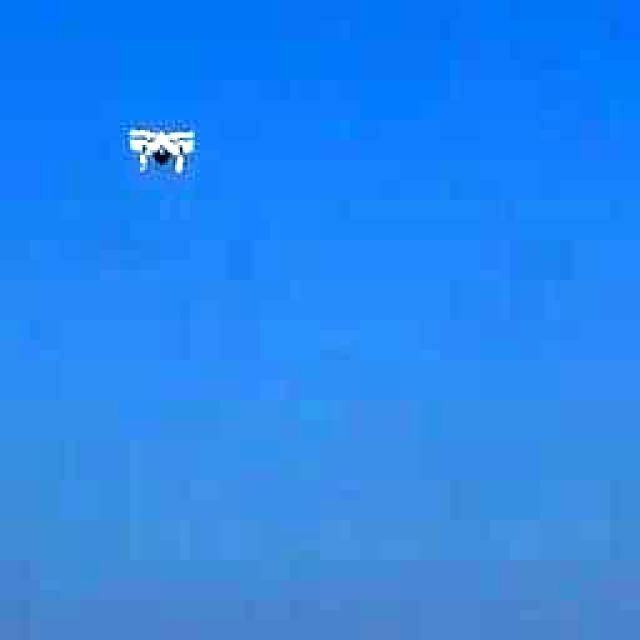bird: (125, 111, 195, 181)
